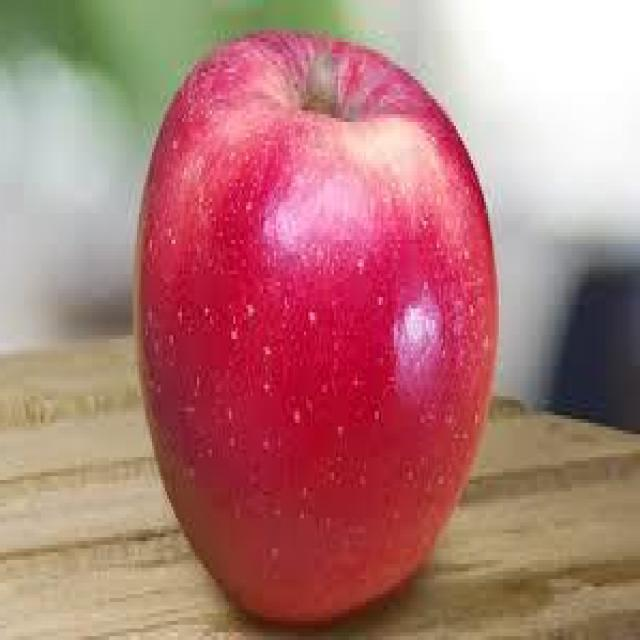apple: (136, 31, 498, 620)
